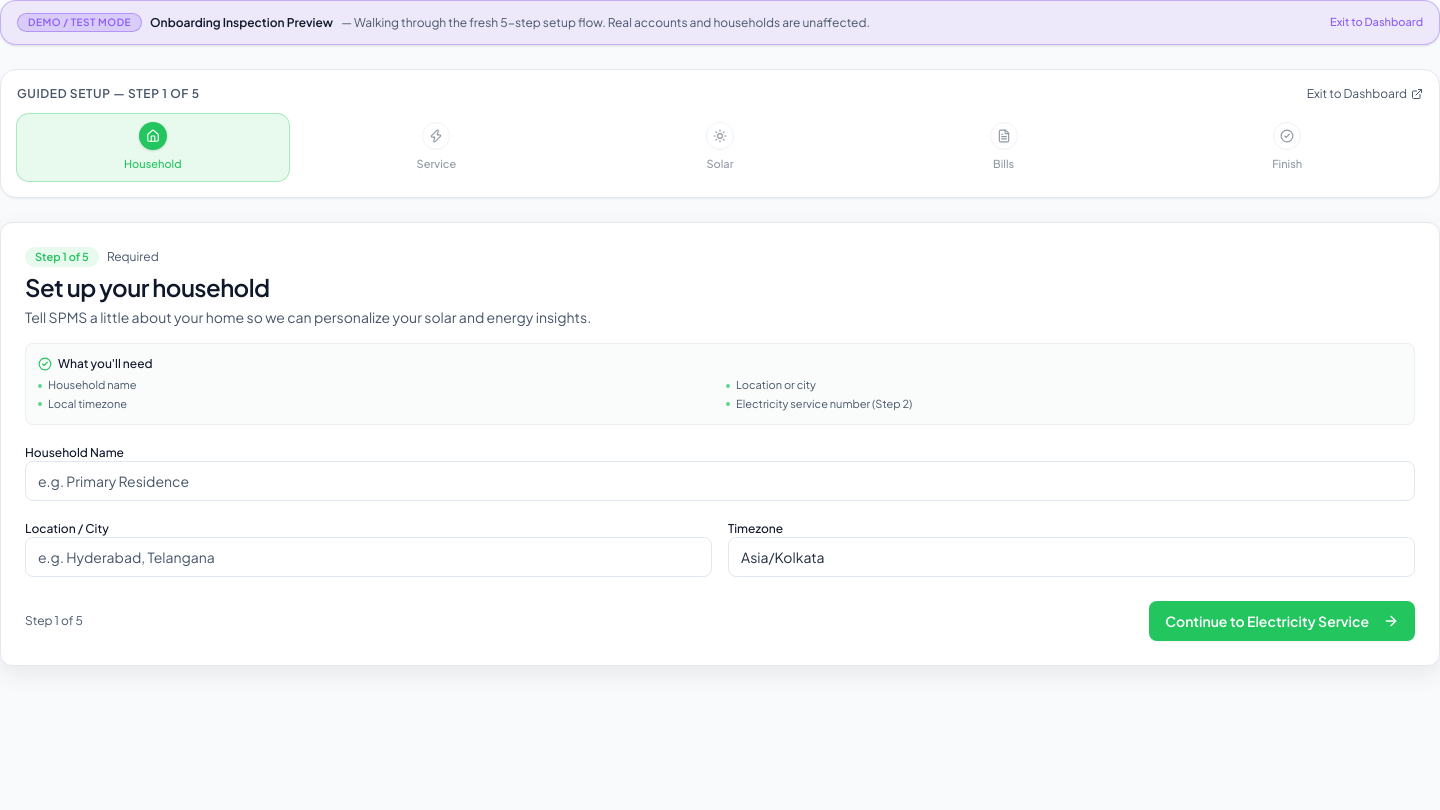
Test: SPMS O3 Onboarding Flow › DEMO Onboarding Inspection Sandbox (Development / Demo Only) › does NOT mutate the server household when submitting steps in inspection mode
// Fill Step 1
Type "Inspected Household" into the field labelled "Household Name" at (720, 481), box left=25, top=461, right=1415, bottom=501
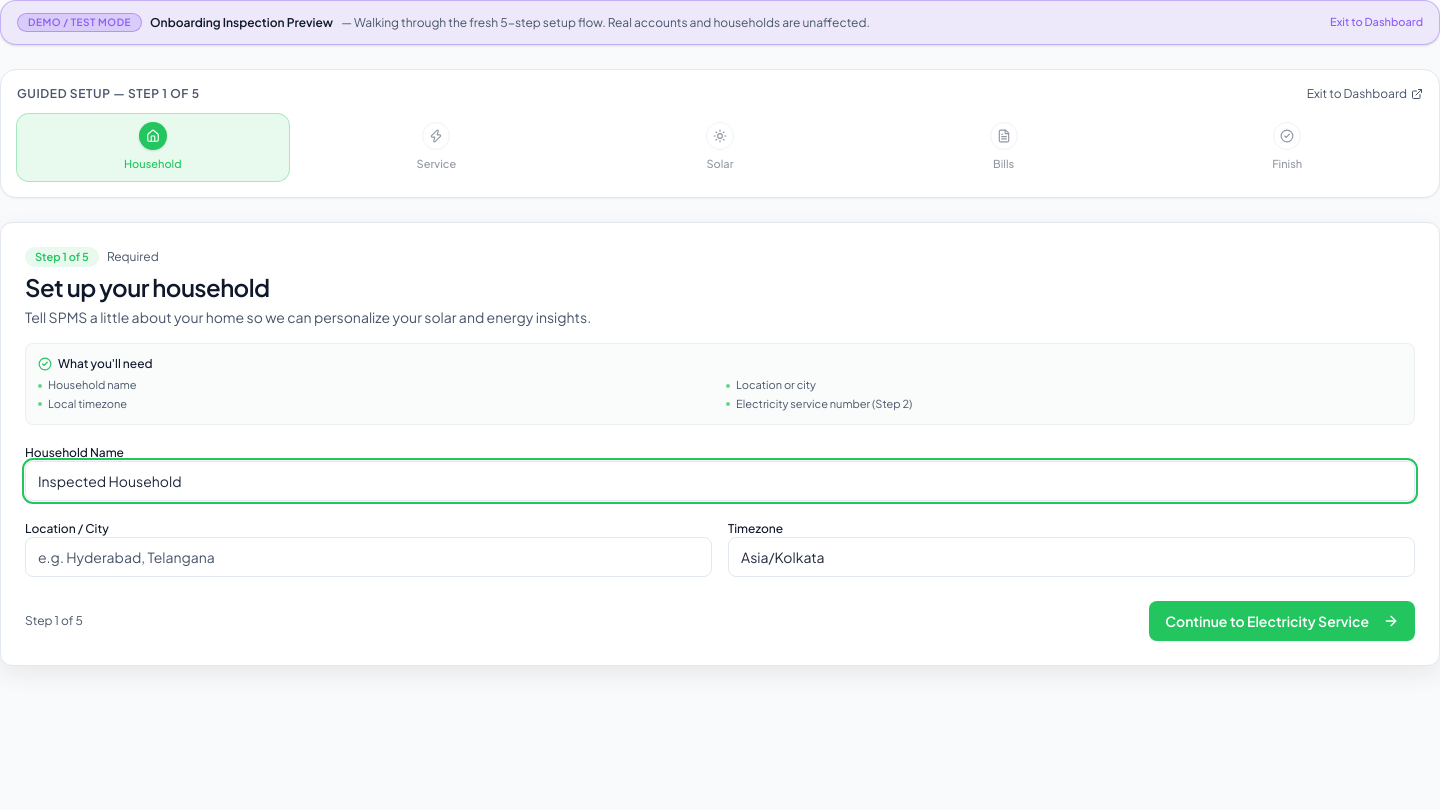
Type "Test City" into the field labelled "Location / City" at (368, 557), box left=25, top=537, right=712, bottom=577
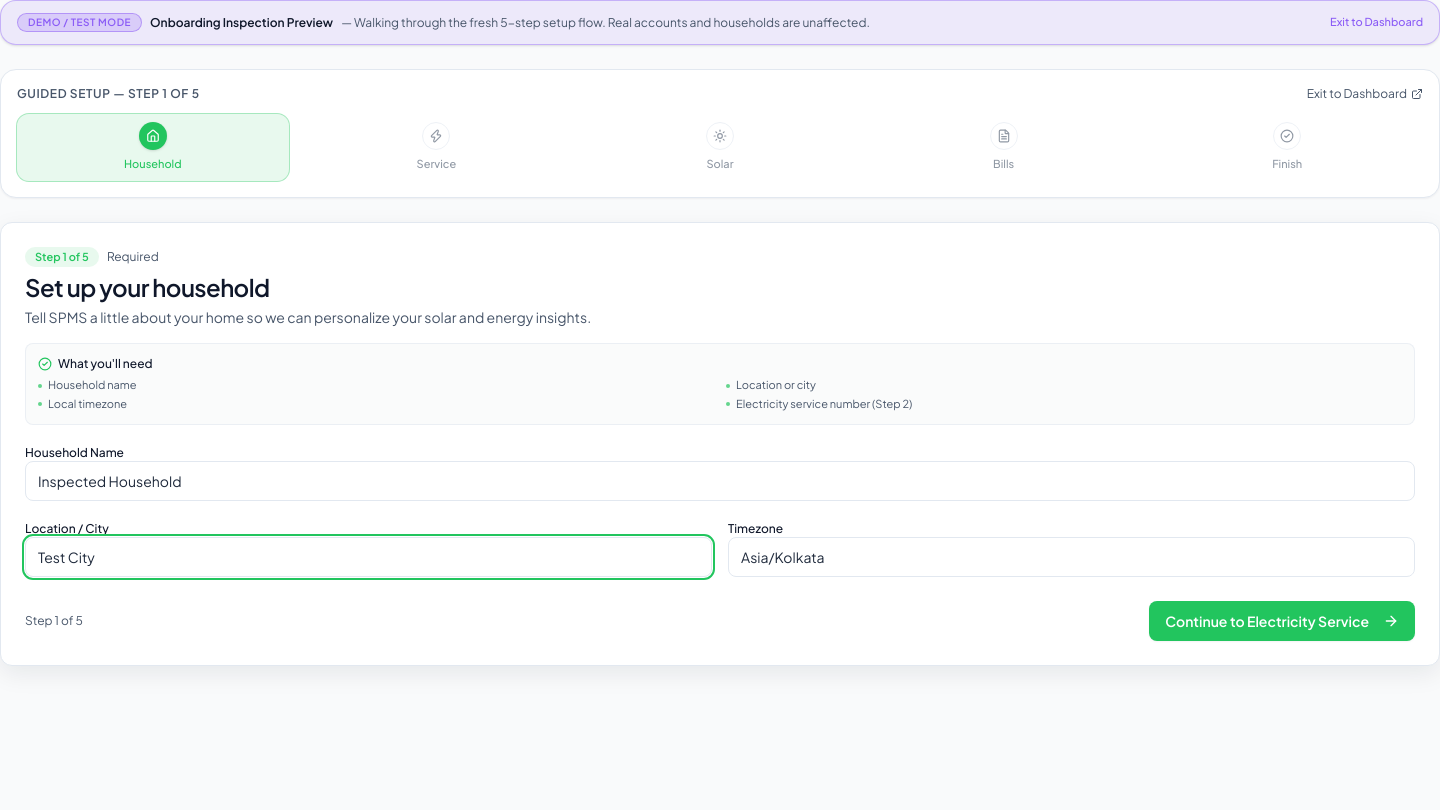
Click the button "Continue to Electricity Service" at (1282, 621), box left=1149, top=601, right=1415, bottom=641
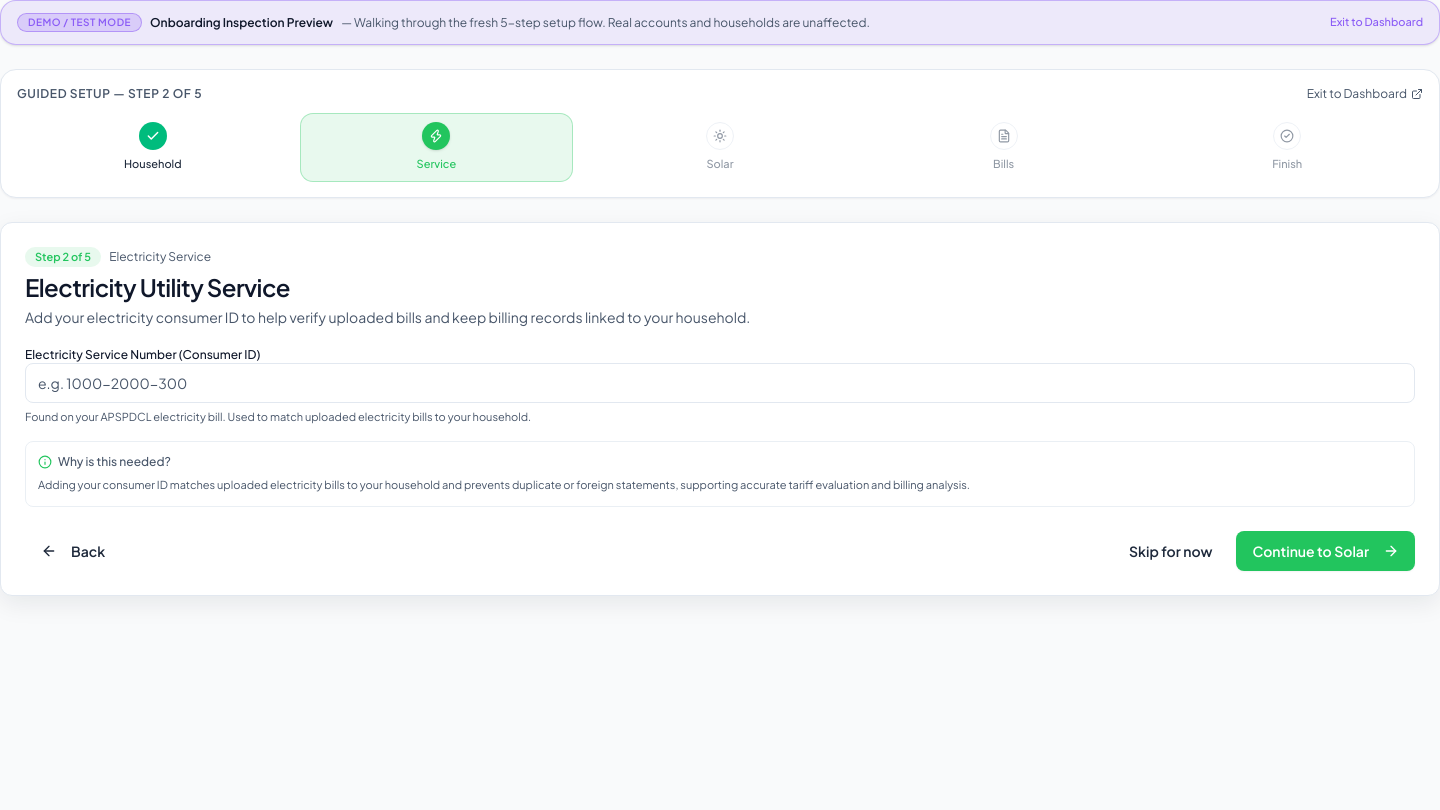
Check: the field labelled "Electricity Service Number (Consumer ID)" is shown, box left=25, top=363, right=1415, bottom=403
